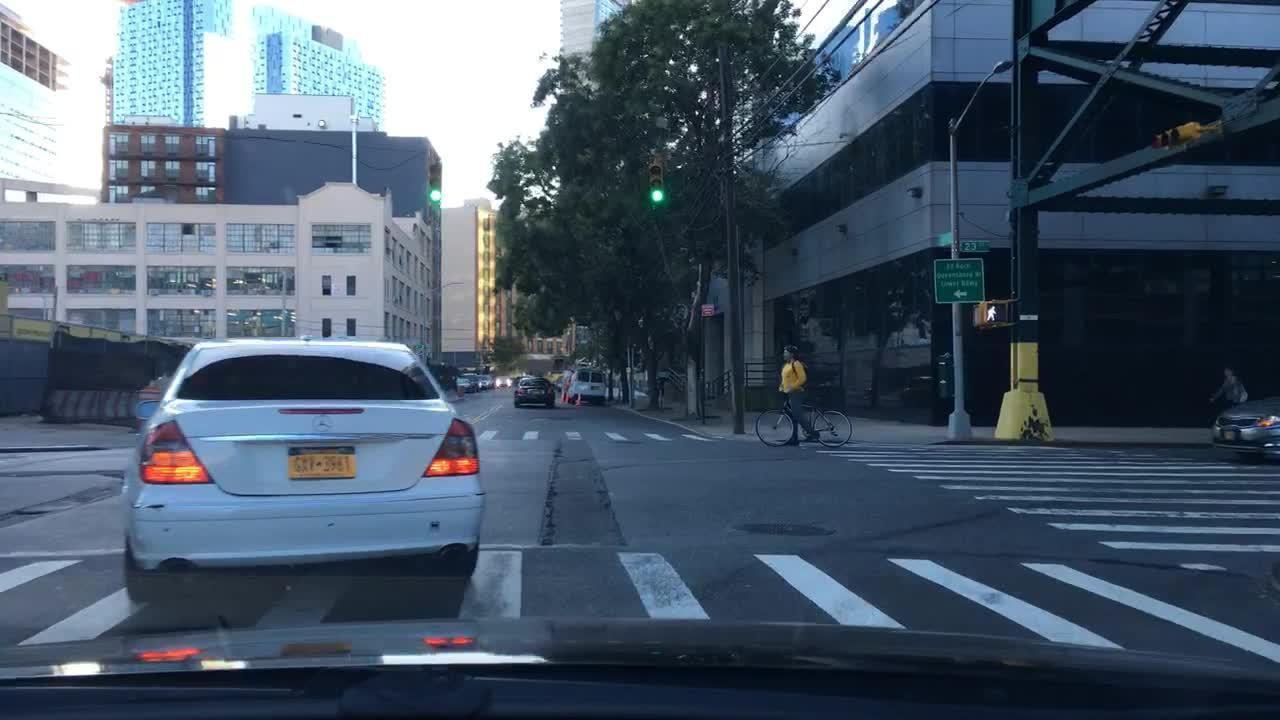Mercedes: (306, 411, 338, 436)
